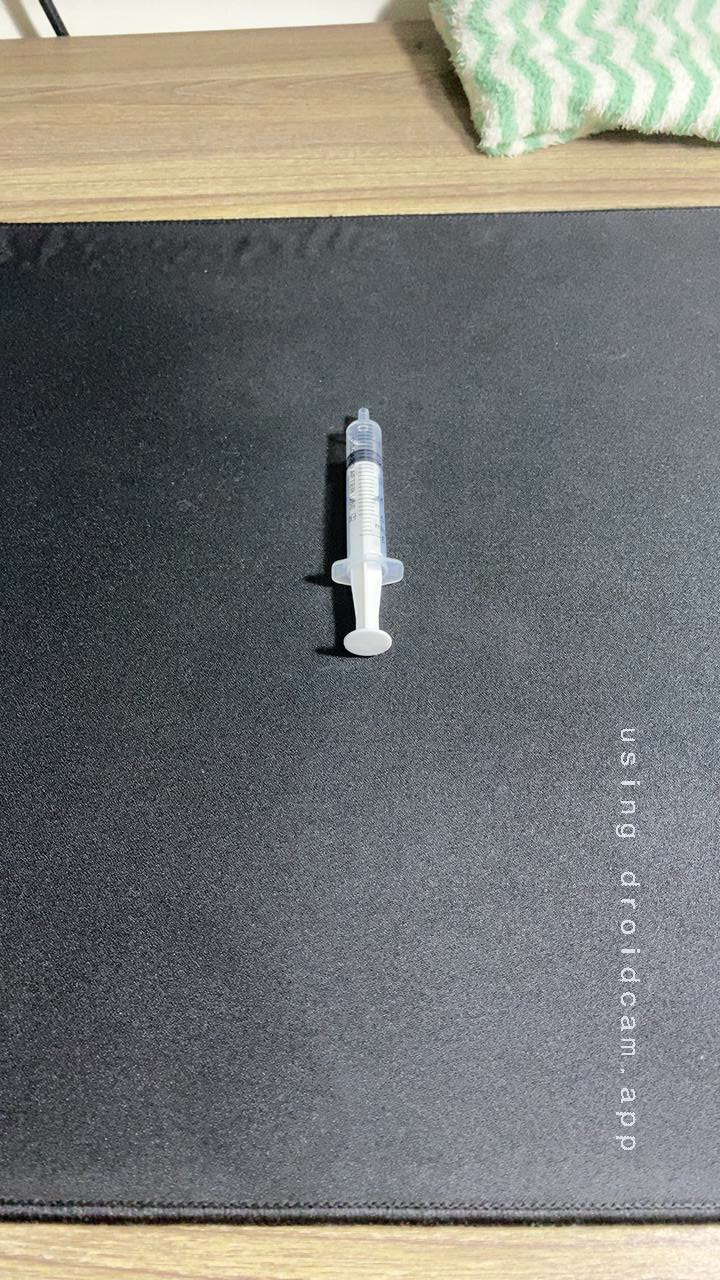syringe: (295, 394, 423, 667)
